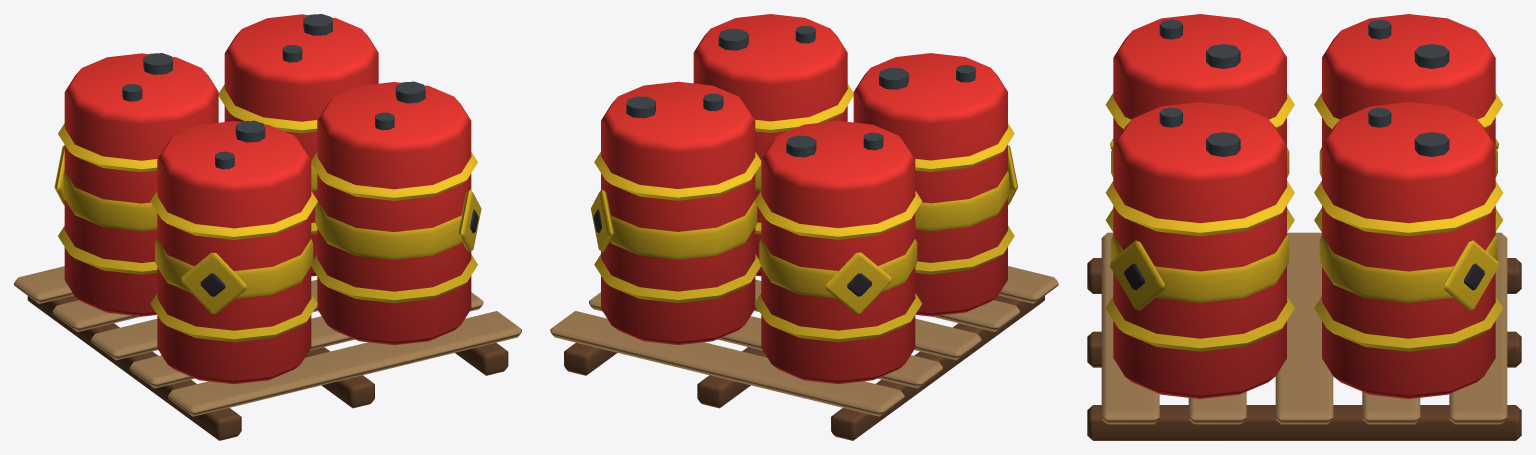
Rendered from fuel-drums.glb.
3 renders of one model, left to right at view 1: azimuth 30°, elevation 25°; view 2: azimuth 150°, elevation 25°; view 3: azimuth 270°, elevation 25°, orthographic. The views are drawn at different scales.
Parts seen in each view (by area): view 1: fuel-drums Fuel red, fuel-drums Hazard yellow, fuel-drums Pale wood, fuel-drums Dark wood, fuel-drums Gunmetal, fuel-drums Ashen charcoal; view 2: fuel-drums Fuel red, fuel-drums Hazard yellow, fuel-drums Pale wood, fuel-drums Dark wood, fuel-drums Gunmetal, fuel-drums Ashen charcoal; view 3: fuel-drums Fuel red, fuel-drums Hazard yellow, fuel-drums Pale wood, fuel-drums Dark wood, fuel-drums Gunmetal, fuel-drums Ashen charcoal.
Part boxes in pixels (x1=…): fuel-drums Fuel red: x1=64, y1=14, x2=471, y2=384; fuel-drums Hazard yellow: x1=54, y1=84, x2=481, y2=342; fuel-drums Pale wood: x1=14, y1=266, x2=521, y2=416; fuel-drums Dark wood: x1=27, y1=295, x2=508, y2=440; fuel-drums Gunmetal: x1=122, y1=14, x2=425, y2=169; fuel-drums Ashen charcoal: x1=200, y1=209, x2=478, y2=296; fuel-drums Fuel red: x1=601, y1=14, x2=1007, y2=384; fuel-drums Hazard yellow: x1=590, y1=84, x2=1018, y2=342; fuel-drums Pale wood: x1=550, y1=266, x2=1058, y2=416; fuel-drums Dark wood: x1=564, y1=295, x2=1044, y2=440; fuel-drums Gunmetal: x1=626, y1=26, x2=975, y2=157; fuel-drums Ashen charcoal: x1=593, y1=209, x2=871, y2=296; fuel-drums Fuel red: x1=1113, y1=14, x2=1495, y2=398; fuel-drums Hazard yellow: x1=1105, y1=93, x2=1503, y2=351; fuel-drums Pale wood: x1=1101, y1=232, x2=1507, y2=424; fuel-drums Dark wood: x1=1087, y1=258, x2=1521, y2=440; fuel-drums Gunmetal: x1=1159, y1=19, x2=1449, y2=156; fuel-drums Ashen charcoal: x1=1124, y1=263, x2=1484, y2=290.
Bounding box in the file's own units: 1.5 × 1.07 × 1.5.
6 materials, 6 textured.
